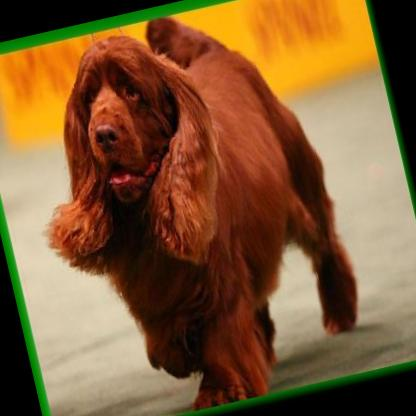Sussex_spaniel: (0, 0, 376, 416)
